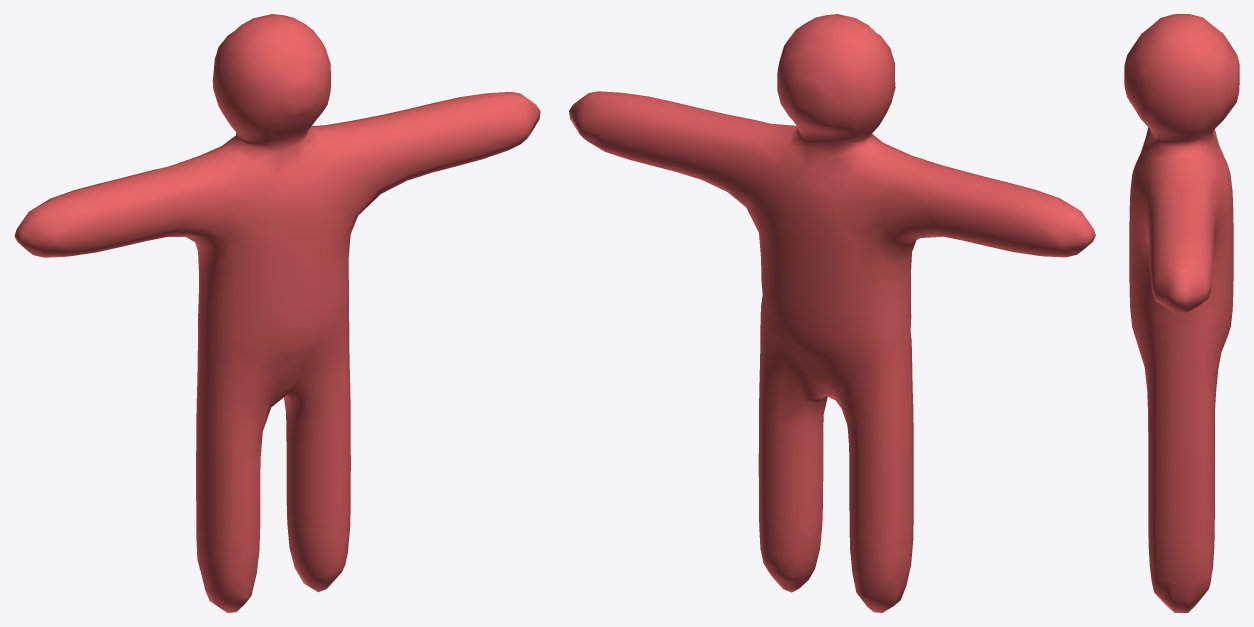
Rendered from Stickman900Model.fbx.
3 renders of one model, left to right at view 1: azimuth 30°, elevation 25°; view 2: azimuth 150°, elevation 25°; view 3: azimuth 270°, elevation 25°, orthographic.
Parts seen in each view (by area): view 1: Mball.007; view 2: Mball.007; view 3: Mball.007.
Boxes of the visible parts, x1,y1,x2,y2 form: Mball.007: [14, 14, 540, 612]; Mball.007: [569, 14, 1095, 612]; Mball.007: [1124, 14, 1239, 612].
Bounding box in the file's own units: 12.27 × 13.04 × 2.4.
